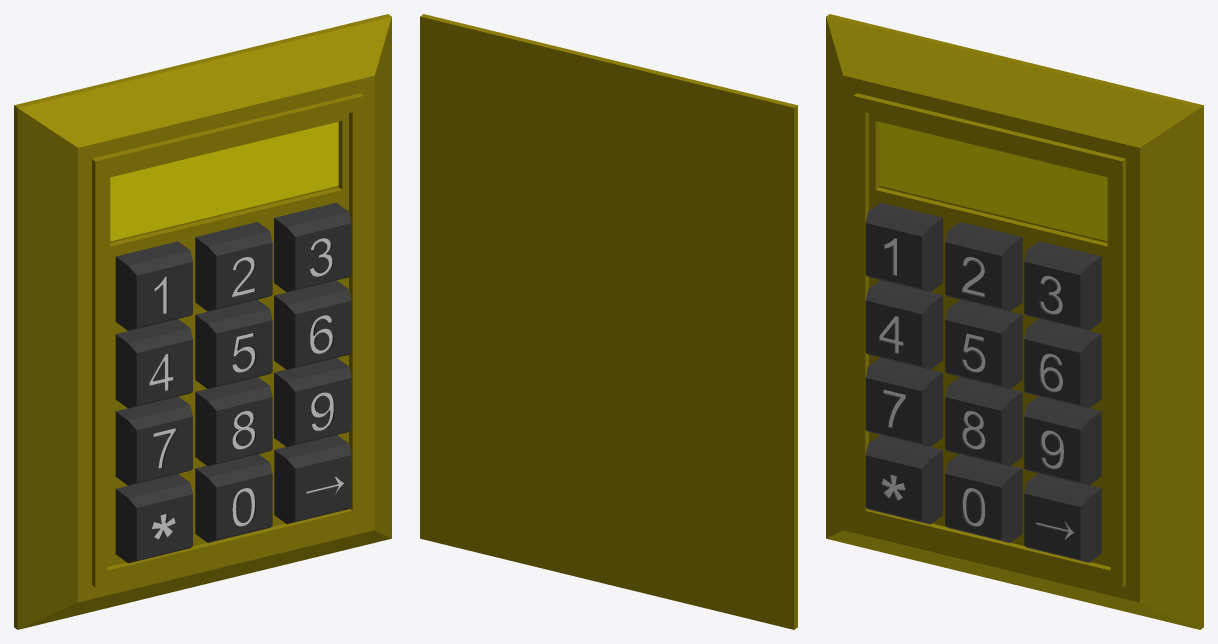
File: keyPad.fbx
3 renders of one model, left to right at view 1: azimuth 30°, elevation 25°; view 2: azimuth 150°, elevation 25°; view 3: azimuth 330°, elevation 25°, orthographic.
Visible parts, largest first — view 1: keyPad, asterisks, one, two, four, three, five, six, seven, enter, eight, nine (+1 smaller); view 2: keyPad; view 3: keyPad, two, three, five, six, one, asterisks, four, enter, nine, eight, seven (+1 smaller).
Part boxes in pixels (x1,y1,x2,y2): keyPad: (14,14,391,629); asterisks: (115,474,192,563); one: (115,241,192,330); two: (195,222,272,311); four: (115,319,192,408); three: (274,202,351,292); five: (195,299,272,388); six: (274,280,351,369); seven: (115,396,192,485); enter: (274,435,351,524); eight: (195,377,272,466); nine: (274,358,351,446); keyPad: (420,14,797,629); keyPad: (826,14,1203,629); two: (945,222,1022,311); three: (1024,241,1101,330); five: (945,299,1022,388); six: (1024,319,1101,408); one: (865,202,942,292); asterisks: (865,435,942,524); four: (865,280,942,369); enter: (1024,473,1101,562); nine: (1024,396,1101,485); eight: (945,377,1022,466); seven: (865,357,942,446).
Size of the model in its own units: 60 by 80 by 12.02.
